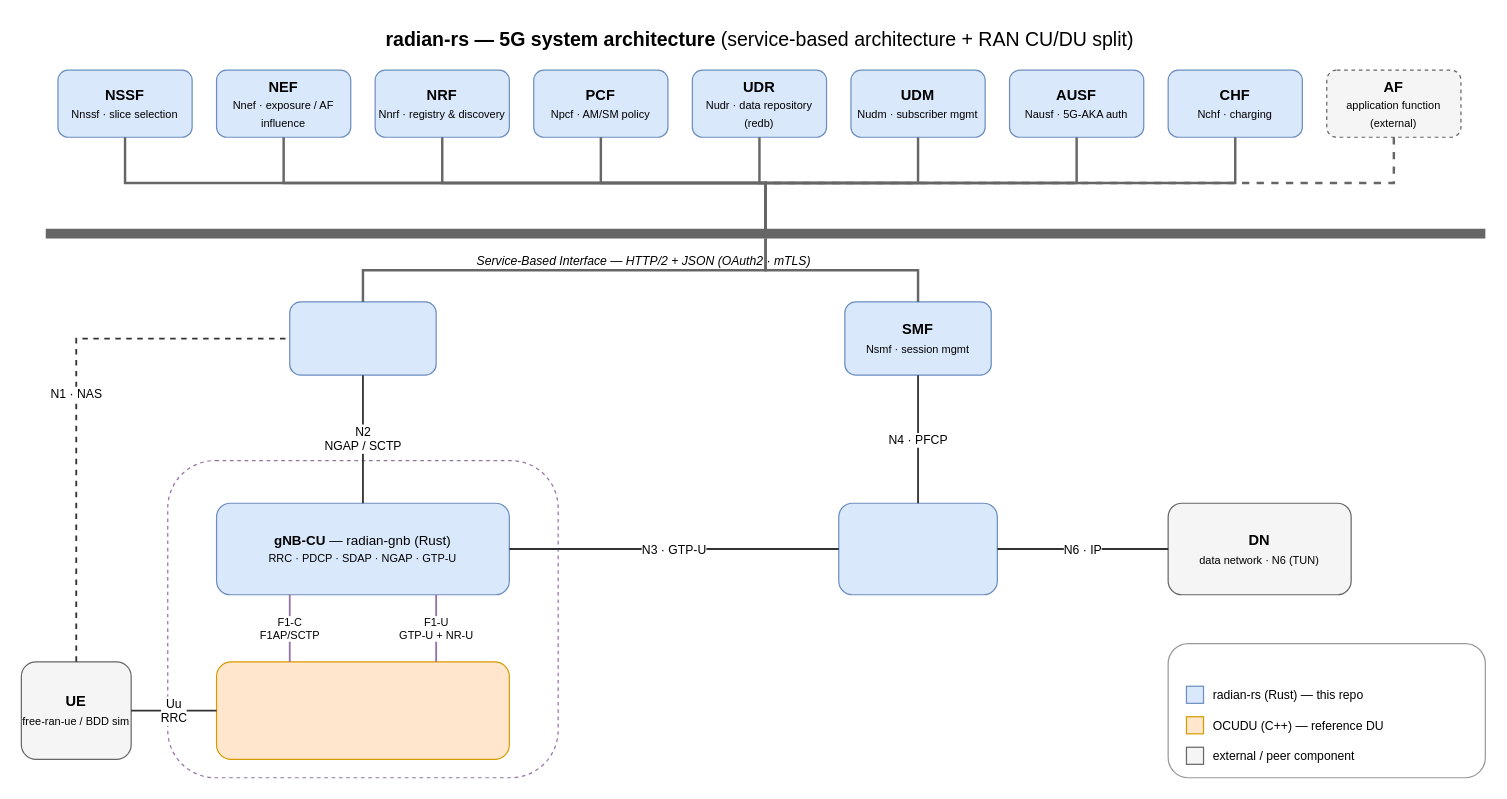
Some shapes in this 1507 by 799 pixel diagram are drawn without their labels. Each missing label, with the box of its shape:
AMF Namf · access & mobility: (289, 301, 436, 375)
gNB-DU — OCUDU odu (C++) MAC · RLC · scheduler · PHY (CI stub: radian-du, Rust): (215, 661, 509, 759)
gNodeB — CU/DU split (design/128): (167, 459, 558, 778)
Legend: (1167, 642, 1485, 778)
UPF user plane · GTP-U / PFCP: (838, 502, 997, 595)
